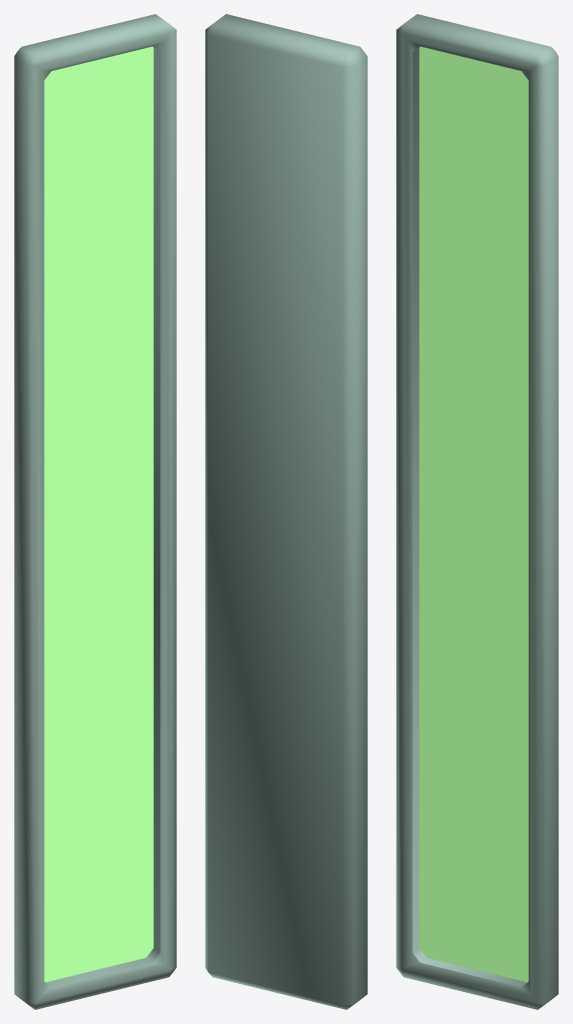
The model's file is Tech7.fbx.
3 views of the same model, side by side, from view 1: azimuth 30°, elevation 25°; view 2: azimuth 150°, elevation 25°; view 3: azimuth 330°, elevation 25° (orthographic).
Parts seen in each view (by area): view 1: Tech7; view 2: Tech7; view 3: Tech7.
Boxes of the visible parts, x1,y1,x2,y2 form: Tech7: (14, 14, 176, 1009); Tech7: (205, 14, 367, 1009); Tech7: (396, 14, 558, 1009).
Size of the model in its own units: 200 by 1223 by 44.38.
